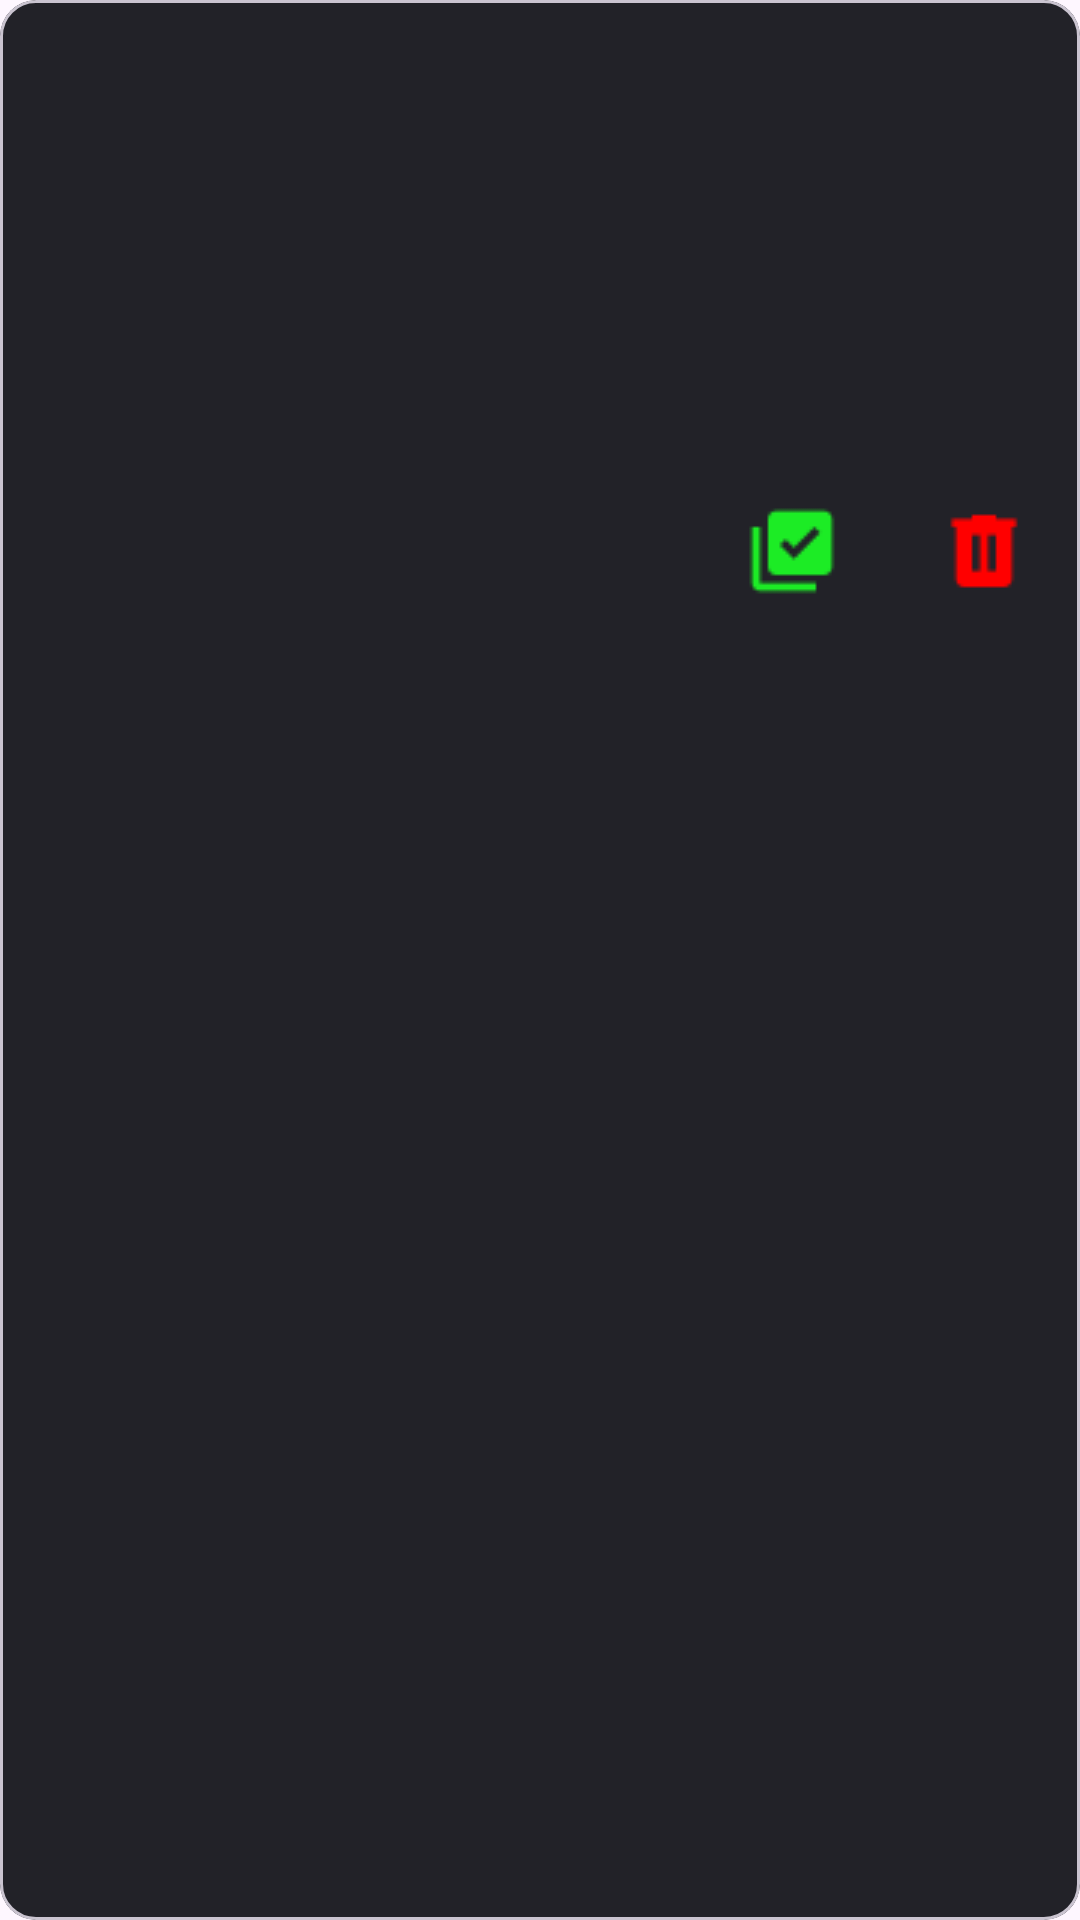

Icon bounding boxes for this 1080×1920 phone screenshot, format (x1, y1, x2, y2):
trash: (950, 514, 1018, 588)
